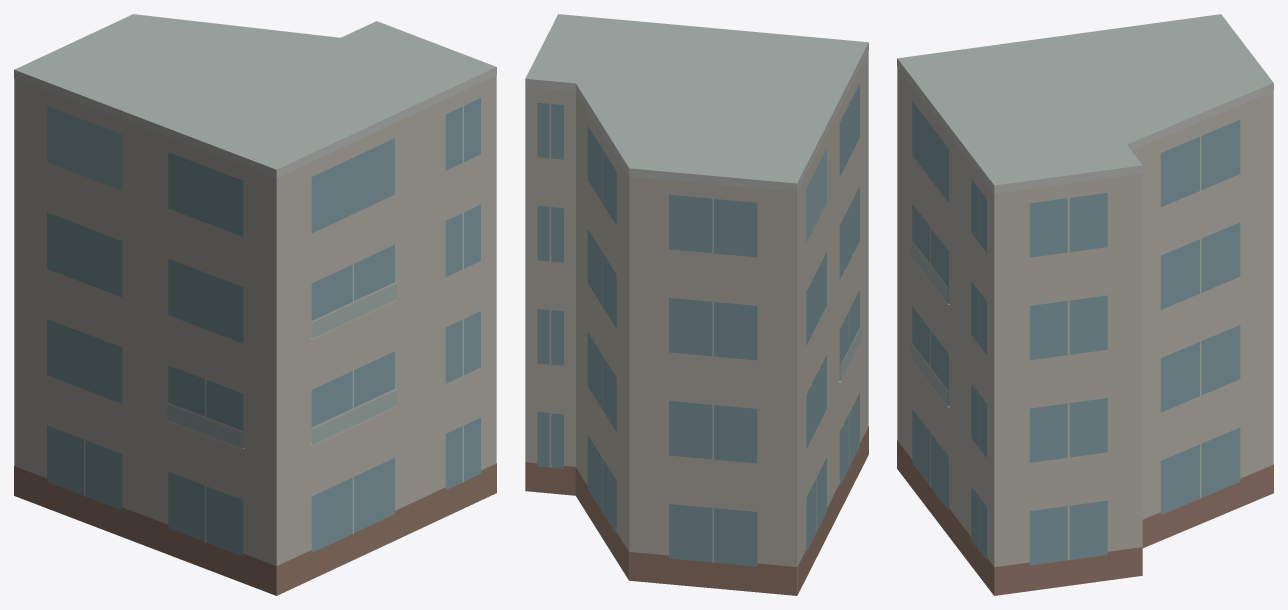
File: residential-c791ca91-28f3-4cfc-aab6-d45cb4cdced0.glb
The picture shows the model from 3 angles, left to right: view 1: azimuth 30°, elevation 25°; view 2: azimuth 150°, elevation 25°; view 3: azimuth 270°, elevation 25°; orthographic projection. The views are drawn at different scales.
Visible parts, largest first — view 1: residential-c791ca91-28f3-4cfc-aab6-d45cb4cdced0.tmp; view 2: residential-c791ca91-28f3-4cfc-aab6-d45cb4cdced0.tmp; view 3: residential-c791ca91-28f3-4cfc-aab6-d45cb4cdced0.tmp.
Boxes of the visible parts, box(x1,y1,x2,y2) form: residential-c791ca91-28f3-4cfc-aab6-d45cb4cdced0.tmp: box(14, 14, 496, 595); residential-c791ca91-28f3-4cfc-aab6-d45cb4cdced0.tmp: box(525, 14, 868, 595); residential-c791ca91-28f3-4cfc-aab6-d45cb4cdced0.tmp: box(897, 14, 1273, 595).
Size of the model in its own units: 10.94 by 12.2 by 10.15.
